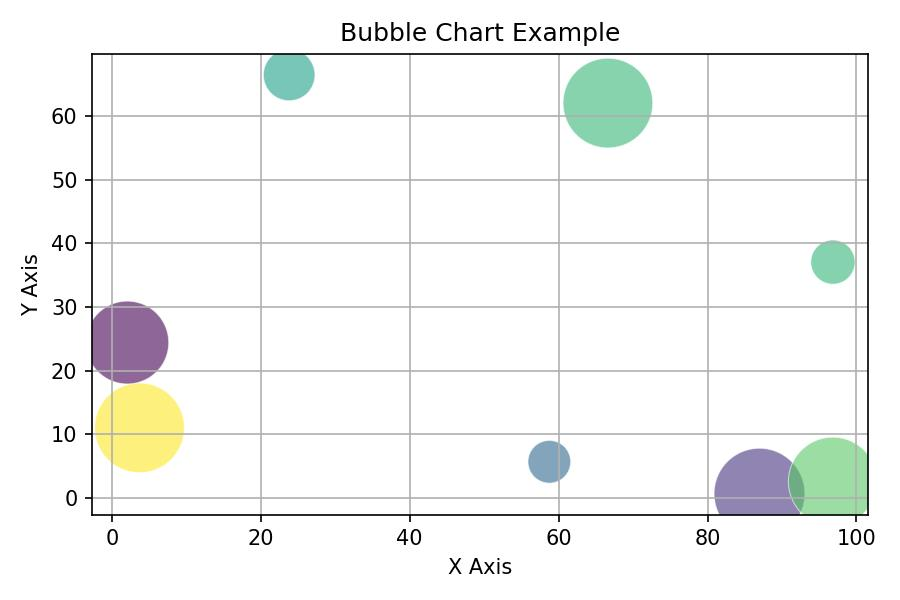axis: (81, 509, 878, 544), (69, 44, 100, 531)
circle: (562, 60, 653, 143), (97, 381, 186, 465), (90, 298, 171, 380), (713, 444, 805, 512), (789, 435, 870, 512), (261, 53, 315, 103), (810, 240, 856, 286), (529, 440, 573, 481)
